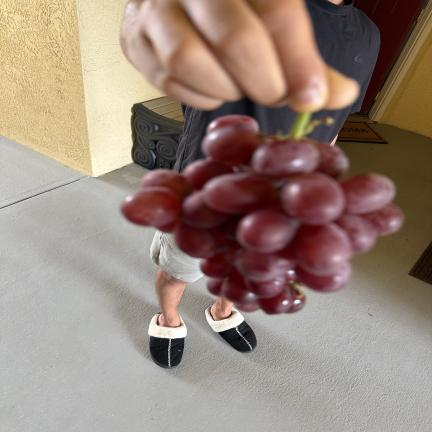grape_cluster: (121, 113, 404, 314)
